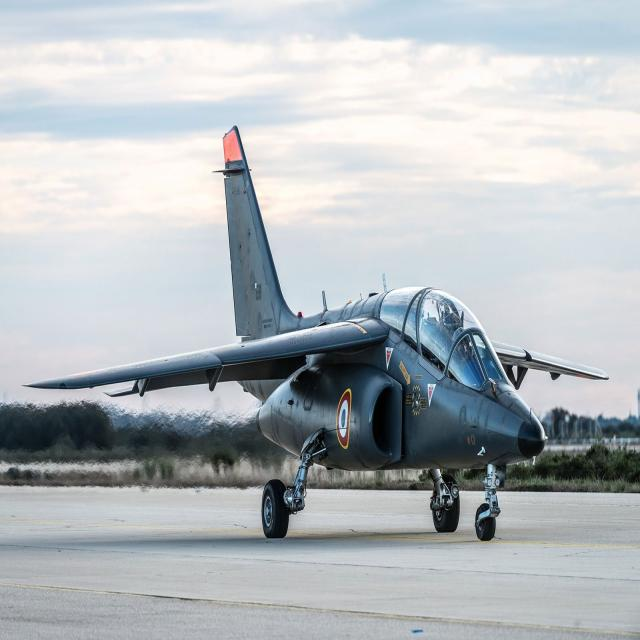jet: (14, 95, 623, 580)
